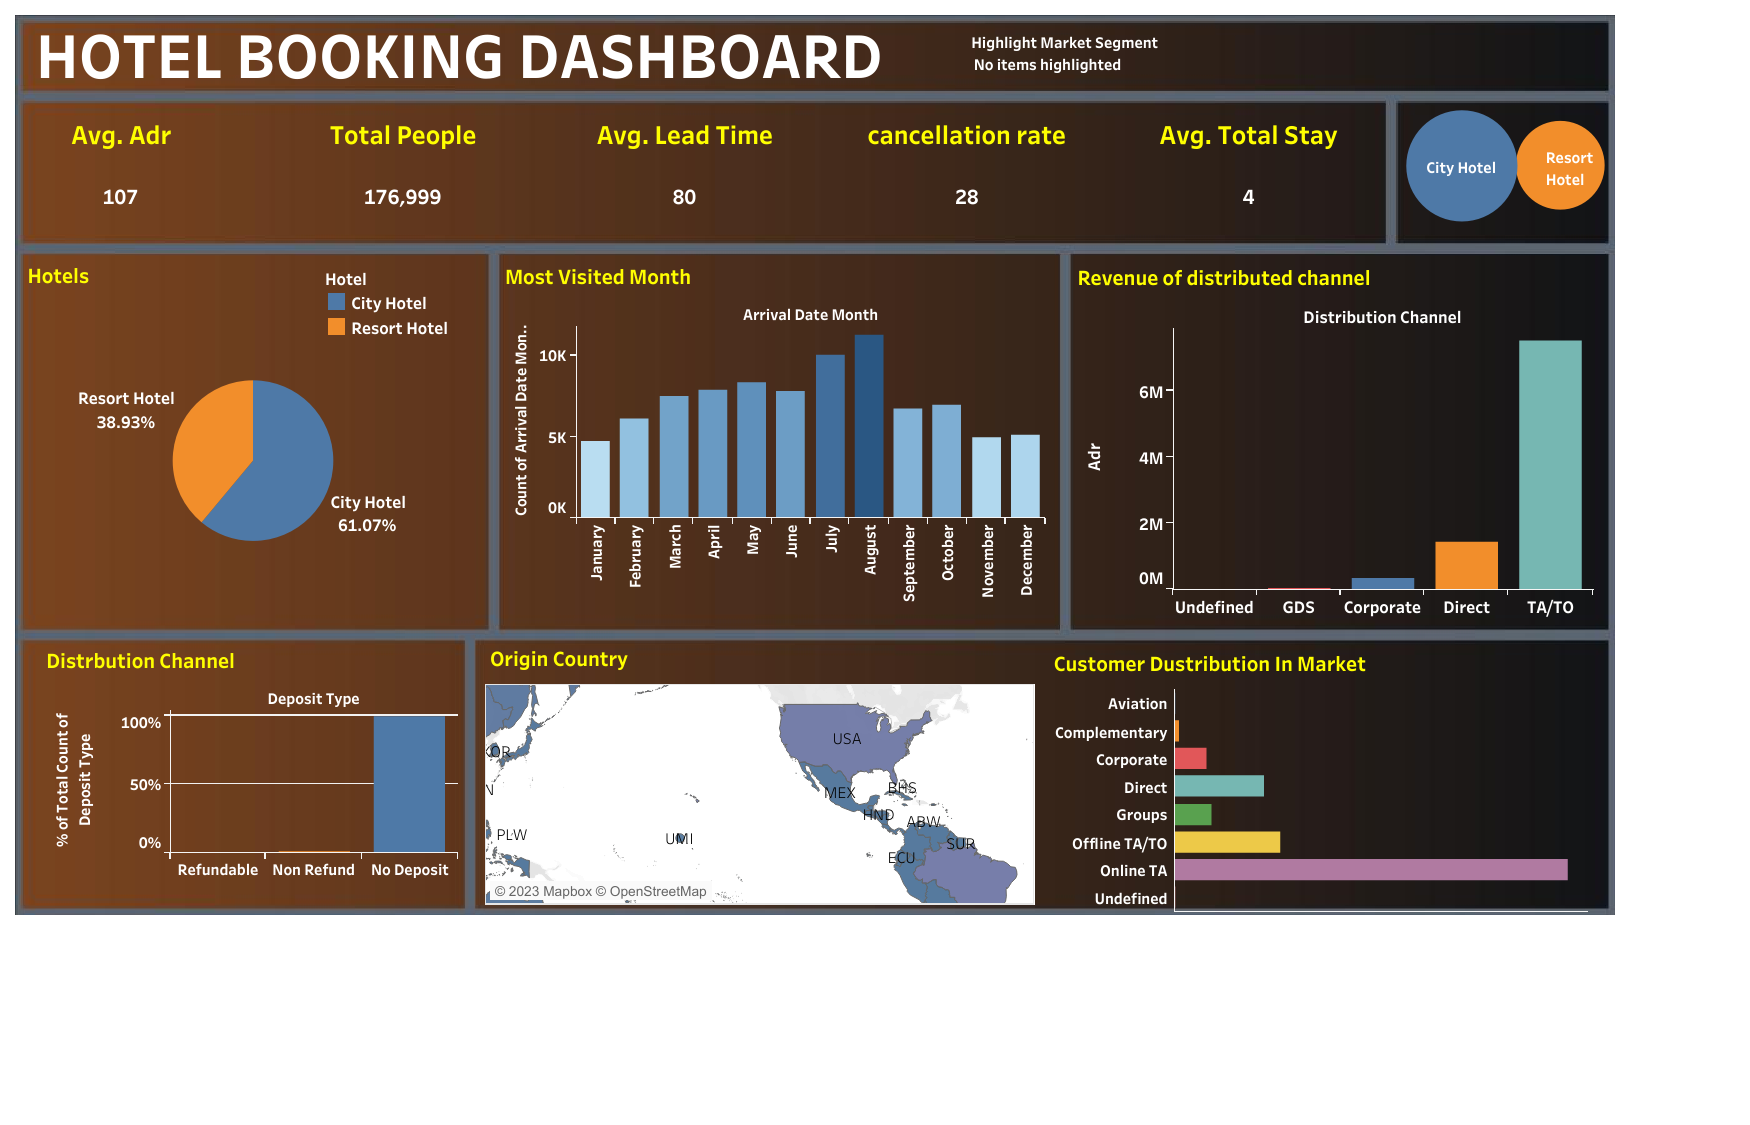

The dashboard page shown, as its layout file describes it:
{"tool":"tableau","page":{"name":"Dashboard 1","canvas":[1400,900],"ordinal":0},"visuals":[{"type":"text","box":[26,6,1263,71]},{"type":"image","param":"Image/HR background.pptx.jpg","box":[8,8,1384,884]},{"type":"highlighter","title":"Sheet 7","param":"[federated.06argp01o0p1eb1b1cnjn0j47hug].[none:market_segment:nk]","box":[777,23,160,55]},{"type":"dashboard-object","box":[937,23,24,24]},{"type":"worksheet","title":"Sheet 8","mark":"Circle","box":[1124,52,195,160]},{"type":"text","box":[1234,114,66,39]},{"type":"worksheet","title":"Sheet 4","mark":"Pie","box":[18,202,368,295]},{"type":"worksheet","title":"Sheet 5","mark":"Automatic","rows":["arrival_date_month"],"cols":["arrival_date_month"],"box":[400,203,436,291]},{"type":"worksheet","title":"Sheet 1","mark":"Automatic","rows":["adr"],"cols":["distribution_channel"],"box":[858,204,416,290]},{"type":"legend","title":"Sheet 4","param":"[federated.06argp01o0p1eb1b1cnjn0j47hug].[none:hotel:nk]","box":[259,211,130,72]},{"type":"legend","title":"Sheet 8","param":"[federated.06argp01o0p1eb1b1cnjn0j47hug].[cnt:hotel:qk]","box":[729,218,160,198]},{"type":"worksheet","title":"Sheet 6","mark":"Automatic","box":[388,509,440,215]},{"type":"worksheet","title":"Sheet 3","mark":"Automatic","cols":["deposit_type"],"box":[33,510,333,212]},{"type":"worksheet","title":"Sheet 7","mark":"Automatic","rows":["market_segment"],"cols":["market_segment"],"box":[839,513,431,216]}]}

Visuals, with their boxes in screenshot pixels (x1, y1, x2, y2), scaled from the page's 1400x900 canvas onto the 1750x1125 screenshot:
text: BBox(32, 8, 1611, 96)
image: BBox(10, 10, 1740, 1115)
"Sheet 7" highlighter: BBox(971, 29, 1171, 98)
dashboard-object: BBox(1171, 29, 1201, 59)
"Sheet 8" worksheet (Circle marks): BBox(1405, 65, 1649, 265)
text: BBox(1542, 142, 1625, 191)
"Sheet 4" worksheet (Pie marks): BBox(22, 252, 482, 621)
"Sheet 5" worksheet: BBox(500, 254, 1045, 618)
"Sheet 1" worksheet: BBox(1072, 255, 1592, 618)
"Sheet 4" legend: BBox(324, 264, 486, 354)
"Sheet 8" legend: BBox(911, 272, 1111, 520)
"Sheet 6" worksheet: BBox(485, 636, 1035, 905)
"Sheet 3" worksheet: BBox(41, 638, 458, 902)
"Sheet 7" worksheet: BBox(1049, 641, 1588, 911)
